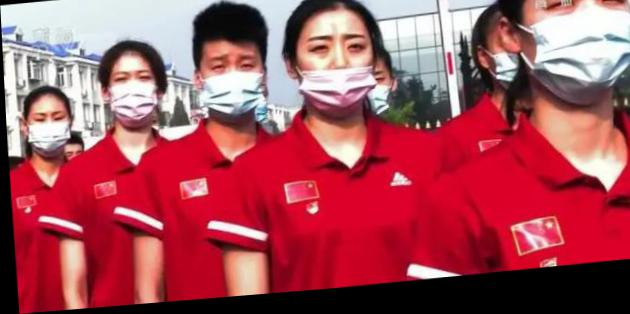OK: (520, 1, 630, 114), (198, 51, 266, 126), (107, 67, 159, 132), (24, 103, 70, 159), (354, 70, 393, 123)
WRONG: (296, 27, 375, 122)
